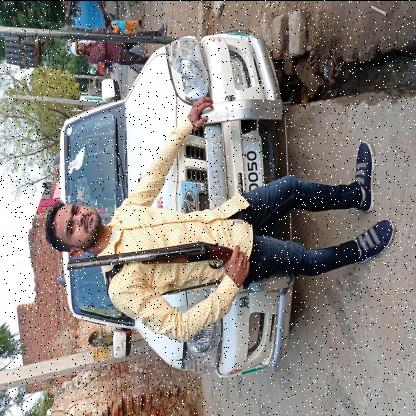rifle: (66, 239, 250, 290)
